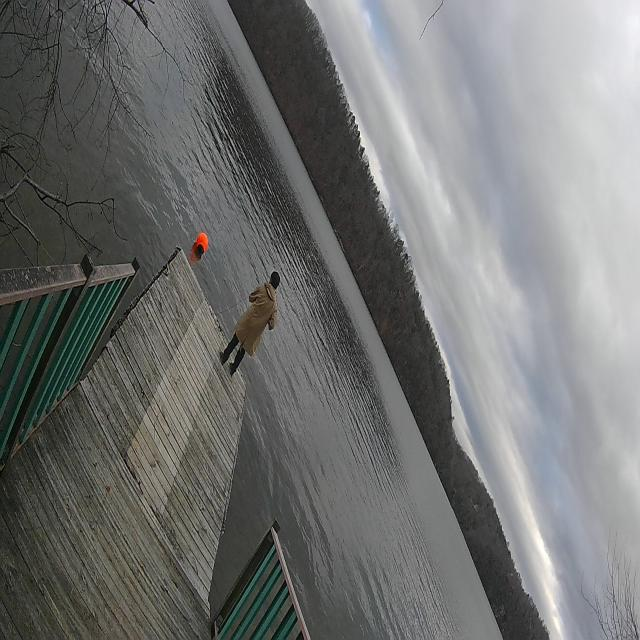Buoy: (193, 222, 210, 266)
